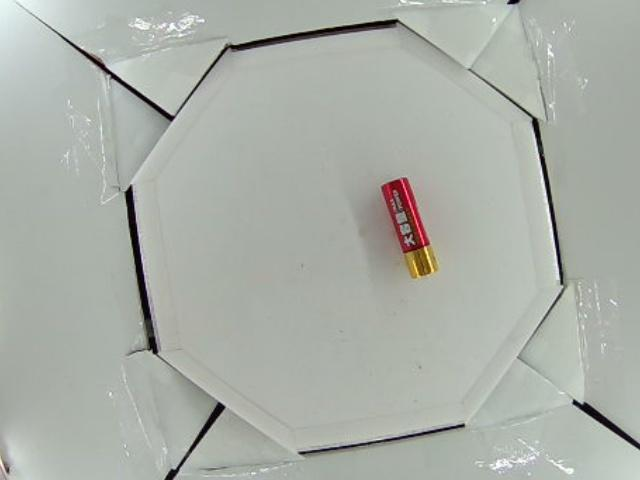Battery: (381, 176, 438, 279)
